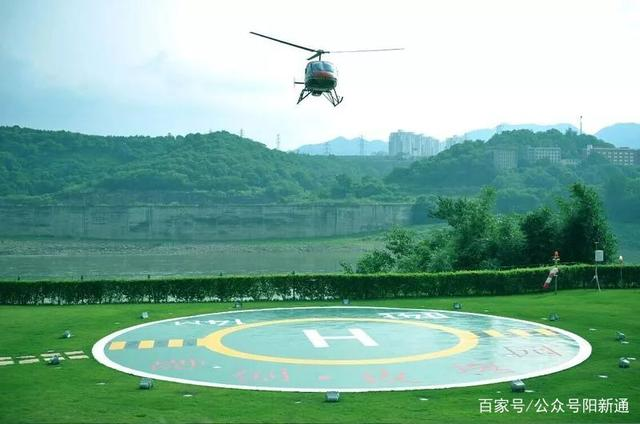Apron: (205, 316, 479, 364)
